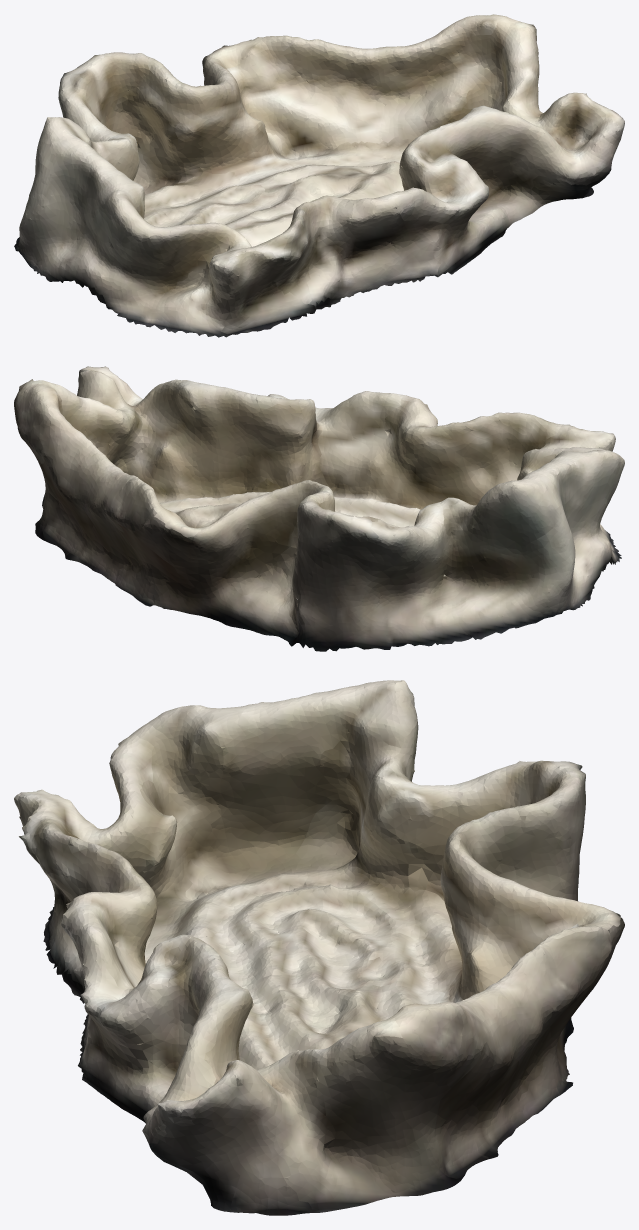
File: Vivalavulva.glb
3 views of the same model, one above another, from view 1: azimuth 30°, elevation 25°; view 2: azimuth 150°, elevation 25°; view 3: azimuth 270°, elevation 25° (orthographic). The views are drawn at different scales.
Visible parts, largest first — view 1: mesh.018; view 2: mesh.018; view 3: mesh.018.
Part boxes in pixels (<box>): mesh.018: <box>14,14,624,337</box>; mesh.018: <box>14,366,624,651</box>; mesh.018: <box>14,680,624,1215</box>.
Bounding box in the file's own units: 0.3712 × 0.0954 × 0.2606.
Materials: 1 (1 with a texture image).
